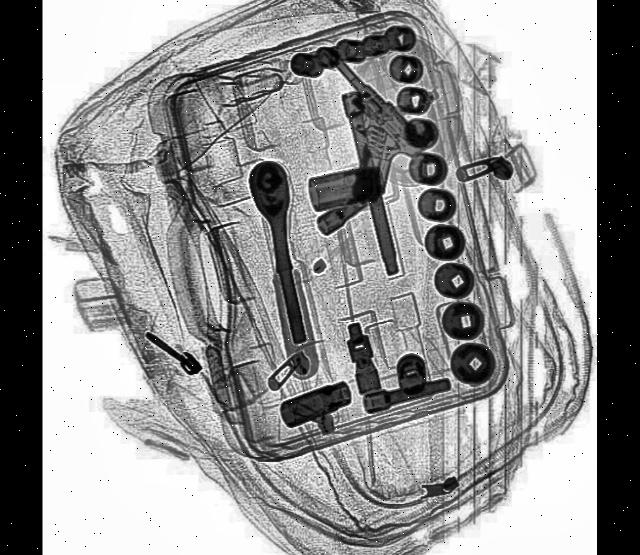Gun: (284, 36, 428, 214)
